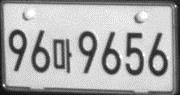5: (124, 32, 144, 76)
6: (30, 29, 51, 73), (101, 30, 121, 75), (148, 33, 168, 76)
9: (77, 29, 98, 75), (8, 28, 26, 73)
마: (52, 37, 72, 75)
